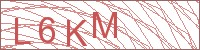6: (38, 16, 57, 44)
K: (65, 19, 88, 47)
L: (13, 17, 34, 45)
M: (91, 11, 119, 38)
